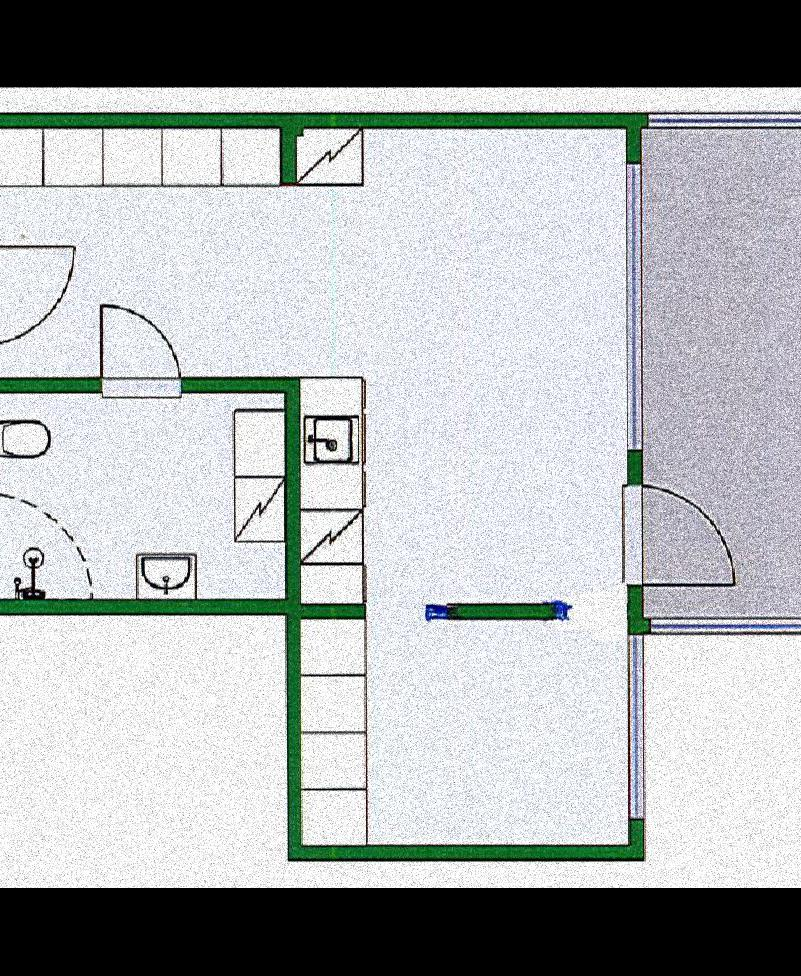door: (614, 481, 746, 588), (0, 235, 84, 352), (92, 308, 189, 406)
window: (622, 165, 642, 448), (626, 632, 645, 824), (653, 112, 801, 135), (649, 614, 801, 633)
zone: (0, 126, 623, 846), (649, 128, 801, 614), (0, 390, 283, 598)
